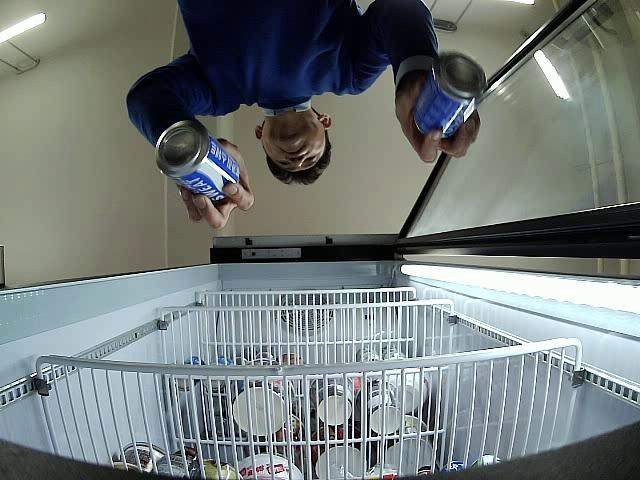13_pocariSweat: (155, 121, 240, 204), (416, 53, 486, 137)
